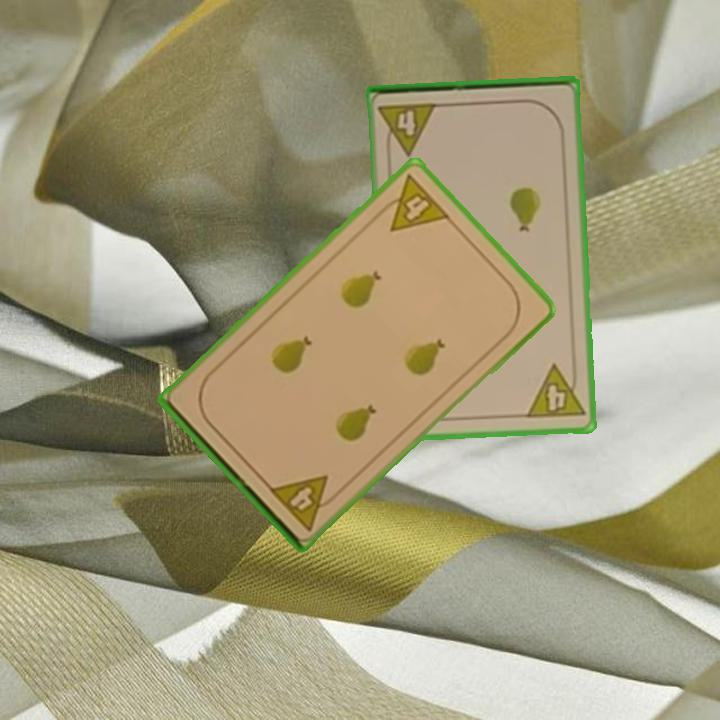4p: (372, 171, 453, 235), (265, 471, 343, 534), (522, 360, 588, 422), (375, 99, 440, 158)
